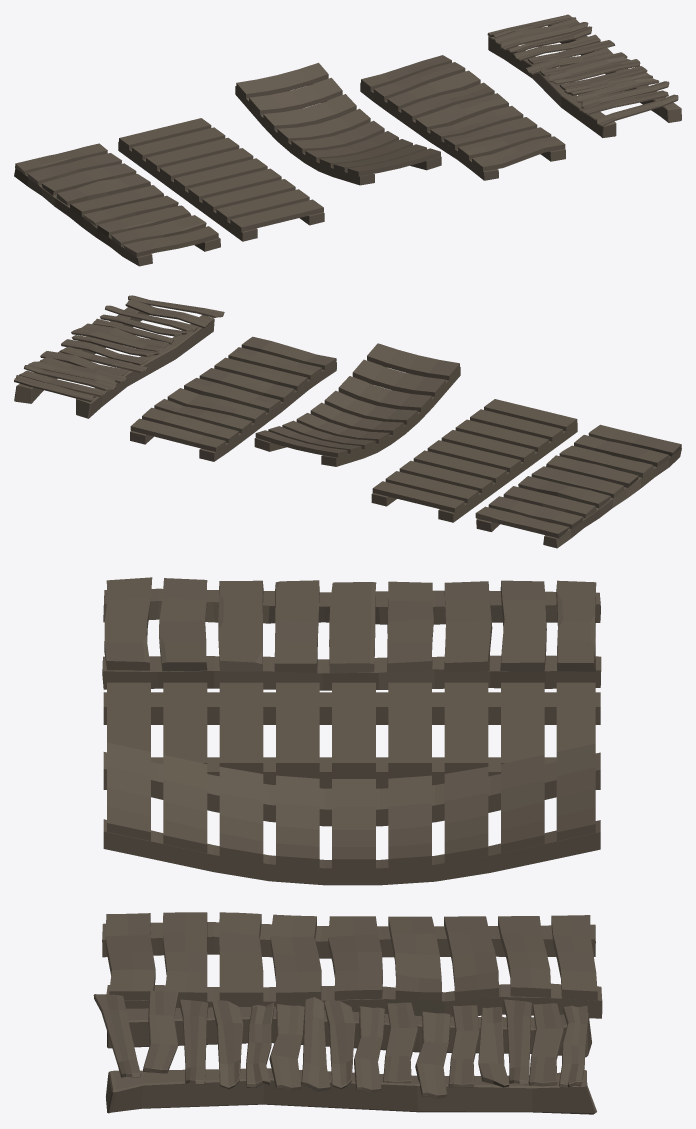
Rendered from Wood bridges.fbx.
The picture shows the model from 3 angles, top to bottom: view 1: azimuth 30°, elevation 25°; view 2: azimuth 150°, elevation 25°; view 3: azimuth 270°, elevation 25°; orthographic projection. The views are drawn at different scales.
Visible parts, largest first — view 1: Bridge.003, Bridge.002, Bridge.004, Bridge.001, Bridge; view 2: Bridge.003, Bridge.002, Bridge.001, Bridge.004, Bridge; view 3: Bridge, Bridge.001, Bridge.002, Bridge.003, Bridge.004.
Part boxes in pixels (x1=…): Bridge.003: x1=360, y1=55, x2=565, y2=180; Bridge.002: x1=14, y1=143, x2=220, y2=266; Bridge.004: x1=118, y1=118, x2=324, y2=241; Bridge.001: x1=235, y1=62, x2=441, y2=185; Bridge: x1=487, y1=14, x2=681, y2=137; Bridge.003: x1=130, y1=336, x2=336, y2=461; Bridge.002: x1=475, y1=424, x2=681, y2=548; Bridge.001: x1=254, y1=343, x2=460, y2=466; Bridge.004: x1=371, y1=399, x2=577, y2=522; Bridge: x1=14, y1=295, x2=224, y2=418; Bridge: x1=93, y1=990, x2=596, y2=1114; Bridge.001: x1=103, y1=742, x2=600, y2=885; Bridge.002: x1=102, y1=577, x2=601, y2=690; Bridge.003: x1=102, y1=912, x2=602, y2=1018; Bridge.004: x1=103, y1=682, x2=600, y2=789.
Bounding box in the file's own units: 1562 × 111 × 614.
